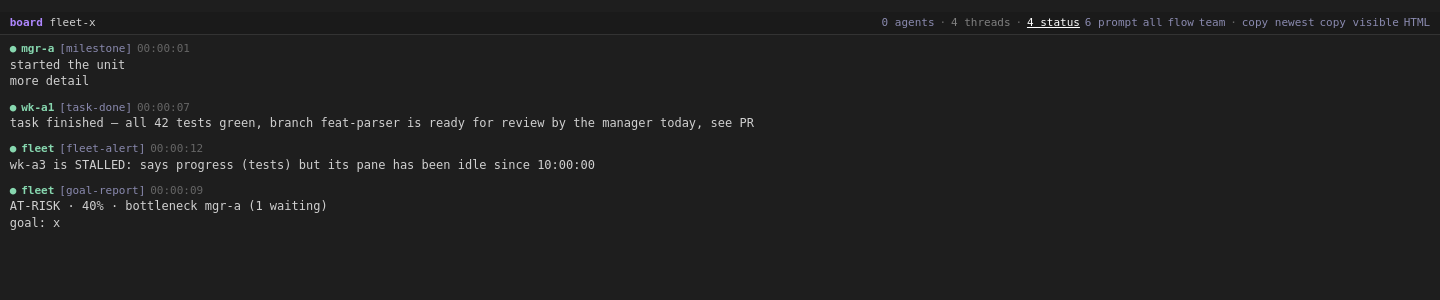
Test: board team view with a goal executor (design 055) › draws stressed / blocker verdicts and the report line
Click the button "team" at {"x": 1212, "y": 23}, box top-left (1199, 15), bottom-right (1225, 31)
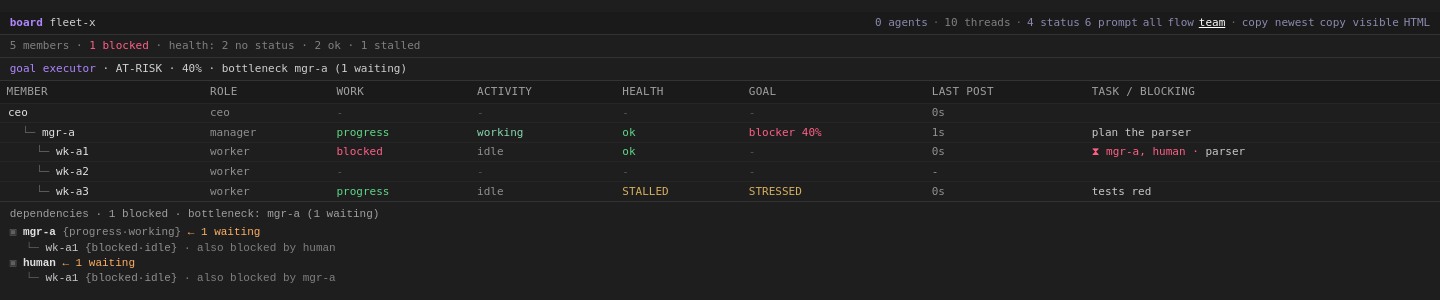
Expected: the element with test id "board-team-goal-report" shows "AT-RISK · 40% · bottleneck mgr-a (1 waiting)", top-left (116, 62), bottom-right (407, 75)
Expected: the cell "blocker 40%" is shown, top-left (742, 123), bottom-right (925, 142)
Expected: the cell "STRESSED" is shown, top-left (742, 182), bottom-right (925, 201)
